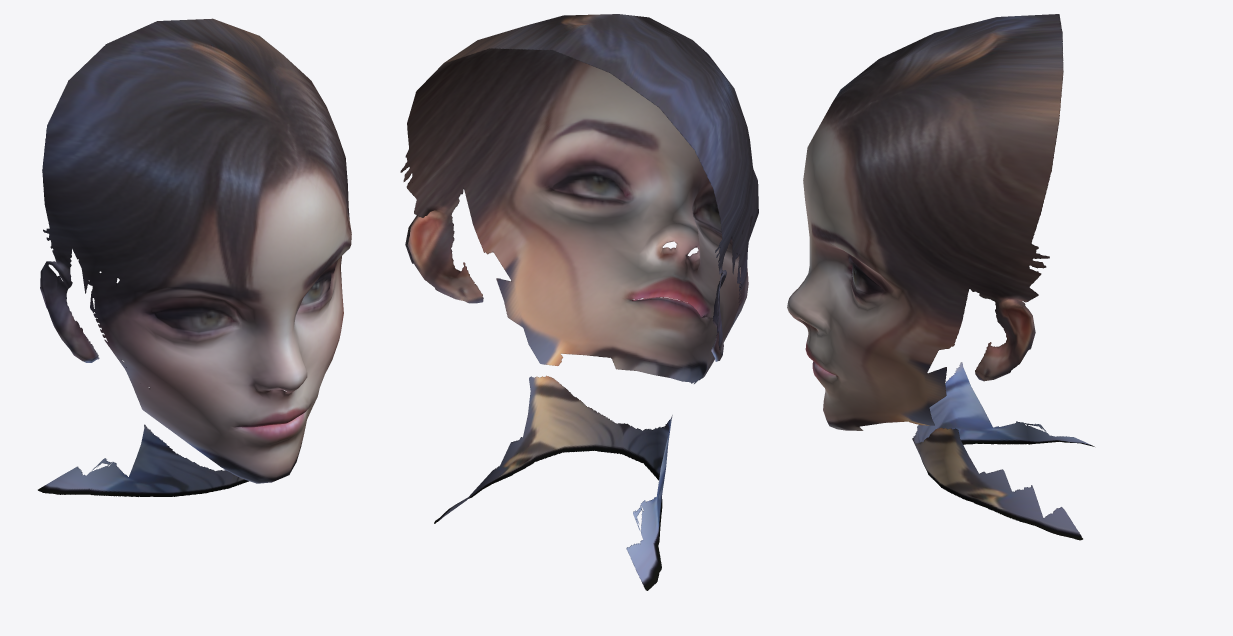
The model's file is body12.fbx.
3 renders of one model, left to right at view 1: azimuth 30°, elevation 25°; view 2: azimuth 150°, elevation 25°; view 3: azimuth 270°, elevation 25°, orthographic. The views are drawn at different scales.
Parts seen in each view (by area): view 1: FBHead; view 2: FBHead; view 3: FBHead.
Part boxes in pixels (<box>): FBHead: <box>38,18,351,496</box>; FBHead: <box>400,14,758,590</box>; FBHead: <box>787,14,1094,540</box>.
Size of the model in its own units: 137 by 258 by 177.
